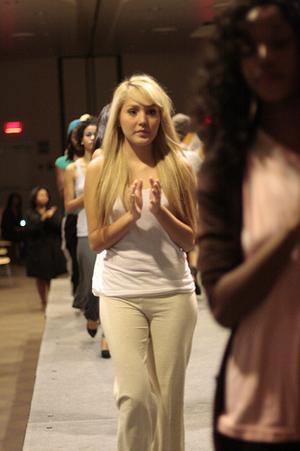person: (87, 74, 201, 451)
